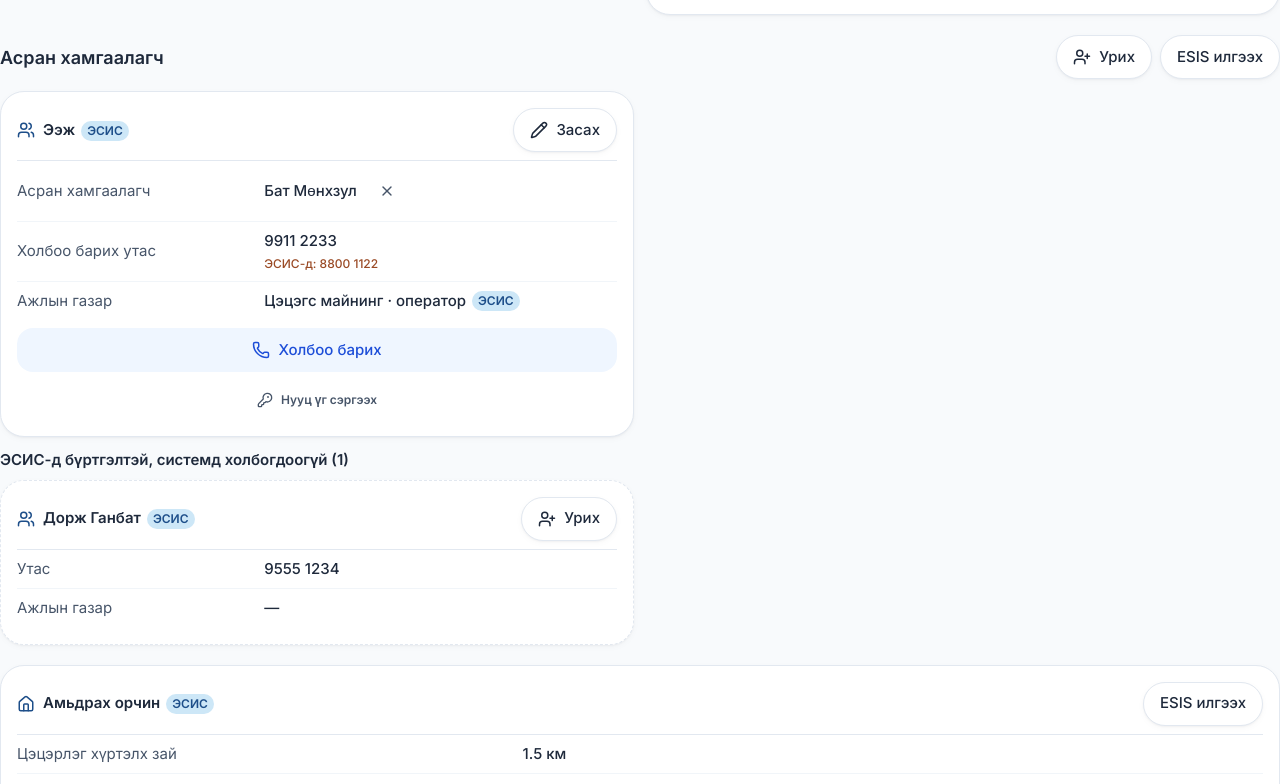
Test: Ерөнхий — ESIS folded into the cards › offers staff a parent's password reset, checked first
The width and height of the screenshot is (1280, 784).
(page scrolled)
Click the button "Нууц үг сэргээх".
click(317, 400)  # box [17,380,617,420]
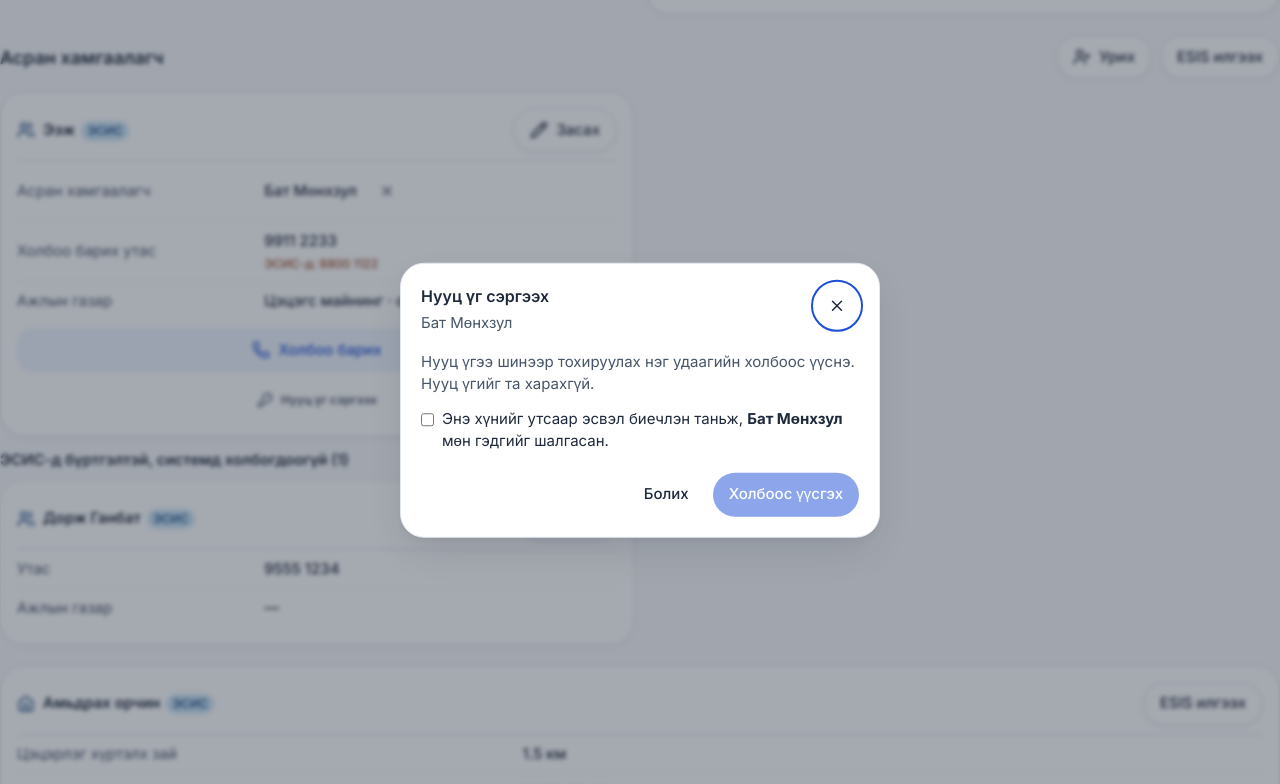
Check: the button "Холбоос үүсгэх" is disabled, box [713,472,859,516]
Click the checkbox.
click(428, 419)  # box [421,411,434,427]
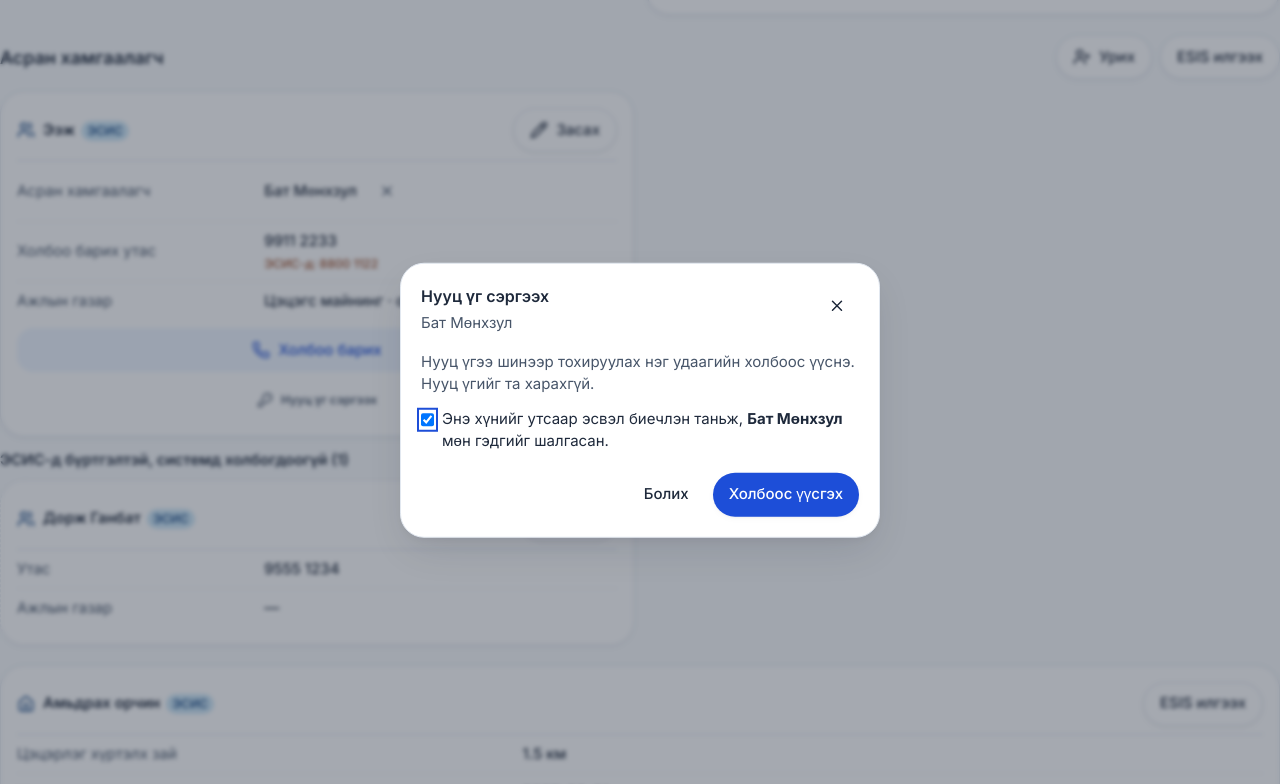
Click the button "Холбоос үүсгэх".
click(786, 494)  # box [713,472,859,516]
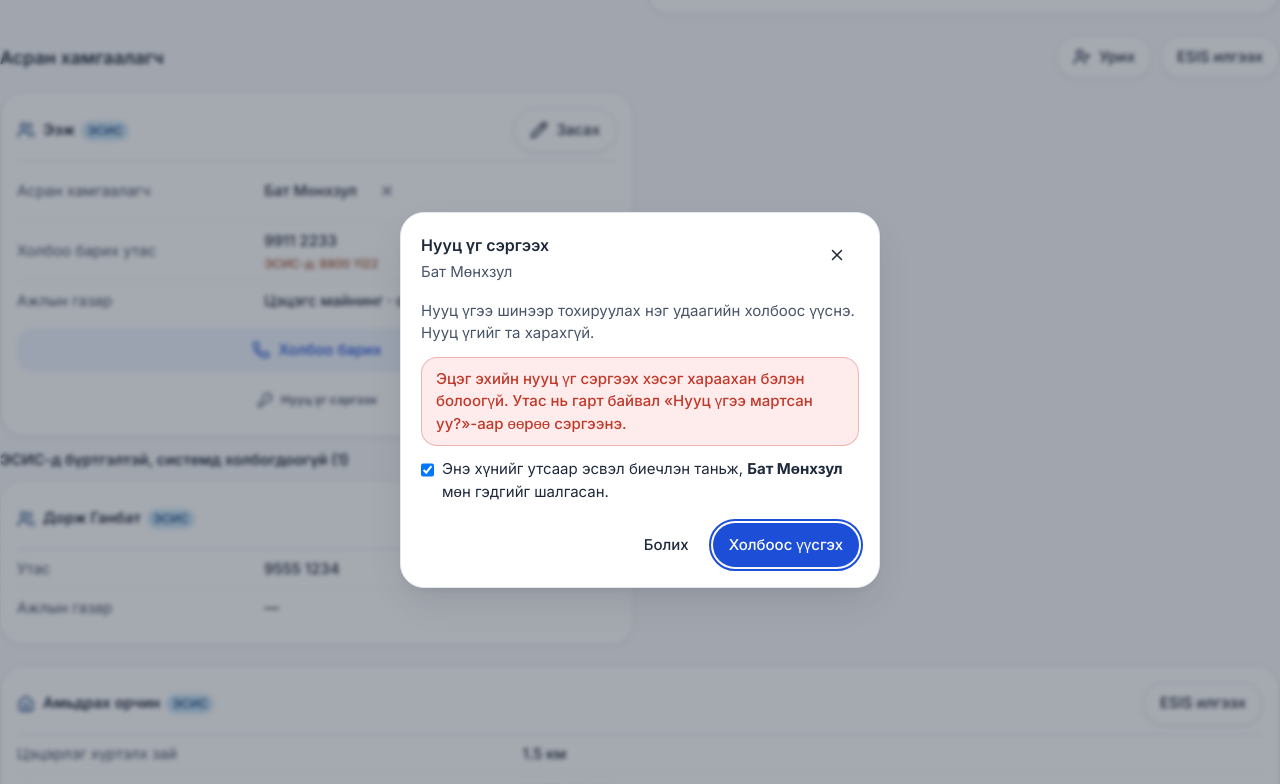
Check: the text "Эцэг эхийн нууц үг сэргээх хэсэг хараахан бэлэн болоогүй" is shown, box [436,368,813,432]
